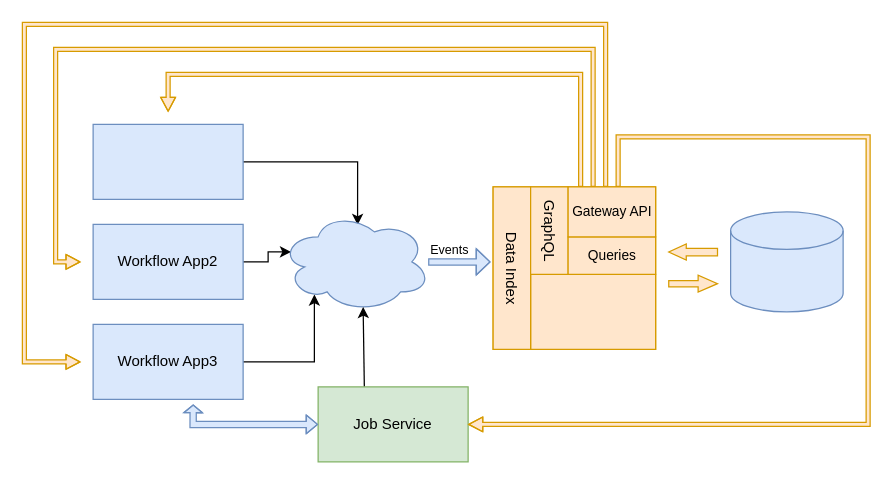
Image size: 893x484. Some labels were removed from this diagram. The centre of each missing label's shape, as x and y in pixels:
"Cloud" goes at point (355, 261).
"Data Indexation" goes at point (592, 311).
"Database" goes at point (786, 261).
"Workflow App1" goes at point (167, 161).
